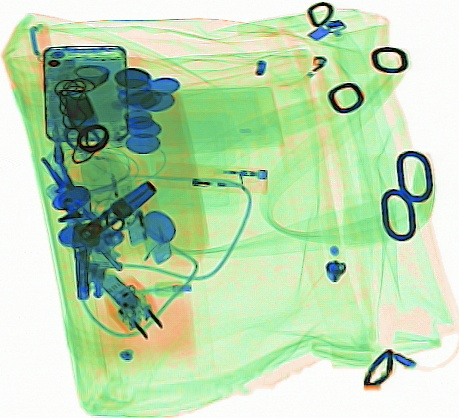lighter: (150, 158, 269, 195), (127, 174, 174, 265)
